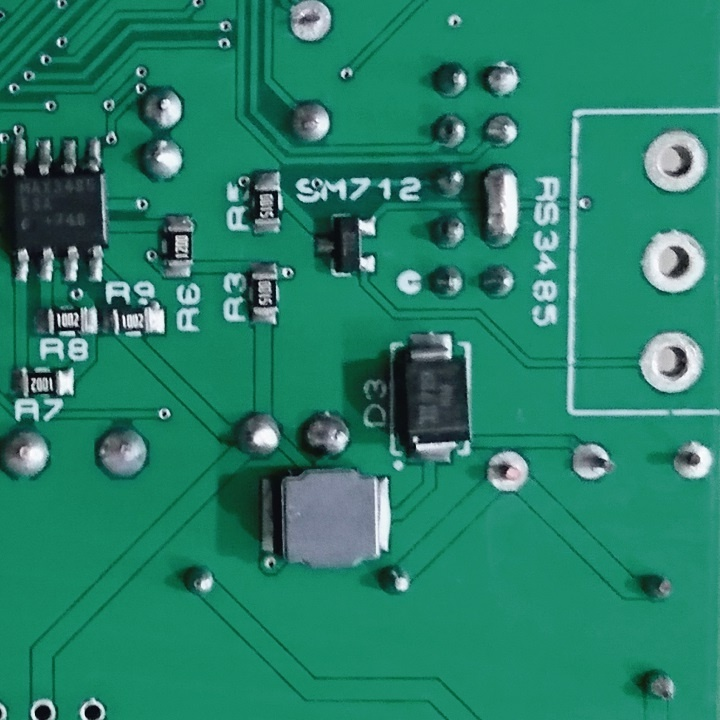F: (637, 229, 709, 299), (638, 128, 712, 195), (635, 330, 707, 398), (483, 447, 533, 498), (285, 1, 339, 48), (567, 439, 619, 485), (670, 438, 716, 483), (27, 695, 62, 720), (76, 695, 109, 720)
P: (478, 161, 521, 254)
